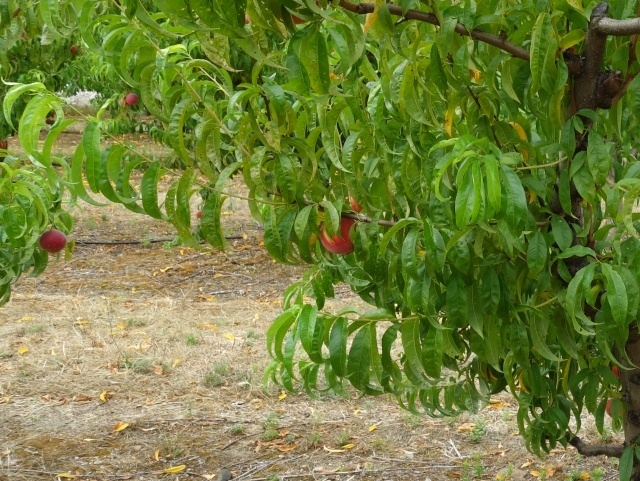peach: (314, 212, 360, 260), (33, 224, 69, 257)
